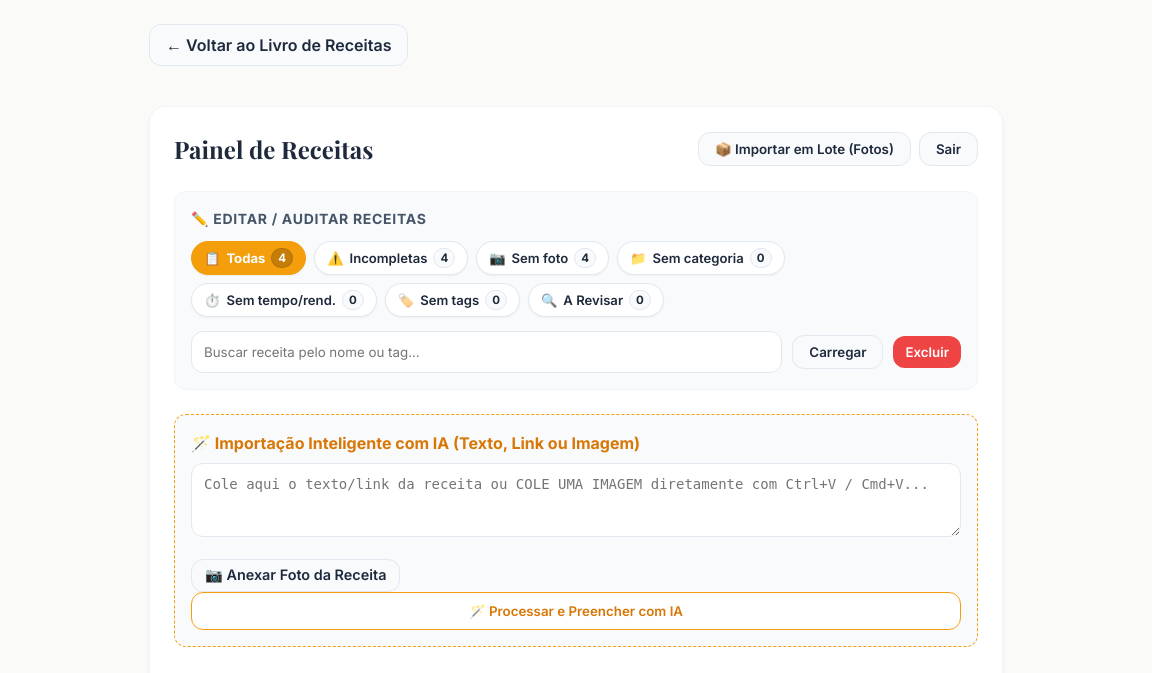
Test: Fluxo 6: Importação por IA → Fallback de Categoria em 3 Níveis (AIImportBox.integration.test.jsx) › Nível 2 (parcial): seleciona categoria correta quando a IA retorna categoria aproximada ("carne bovina" -> "carnes")
Expected: the heading "Painel de Receitas" is shown, left=174, top=131, right=373, bottom=167
Note: Insere texto no AIImportBox
Replace the text in the text box named "Texto, URL ou imagem da receita para importação inteligente" with "Costela no bafo com sal grosso...": x=576, y=500 left=191, top=463, right=961, bottom=537
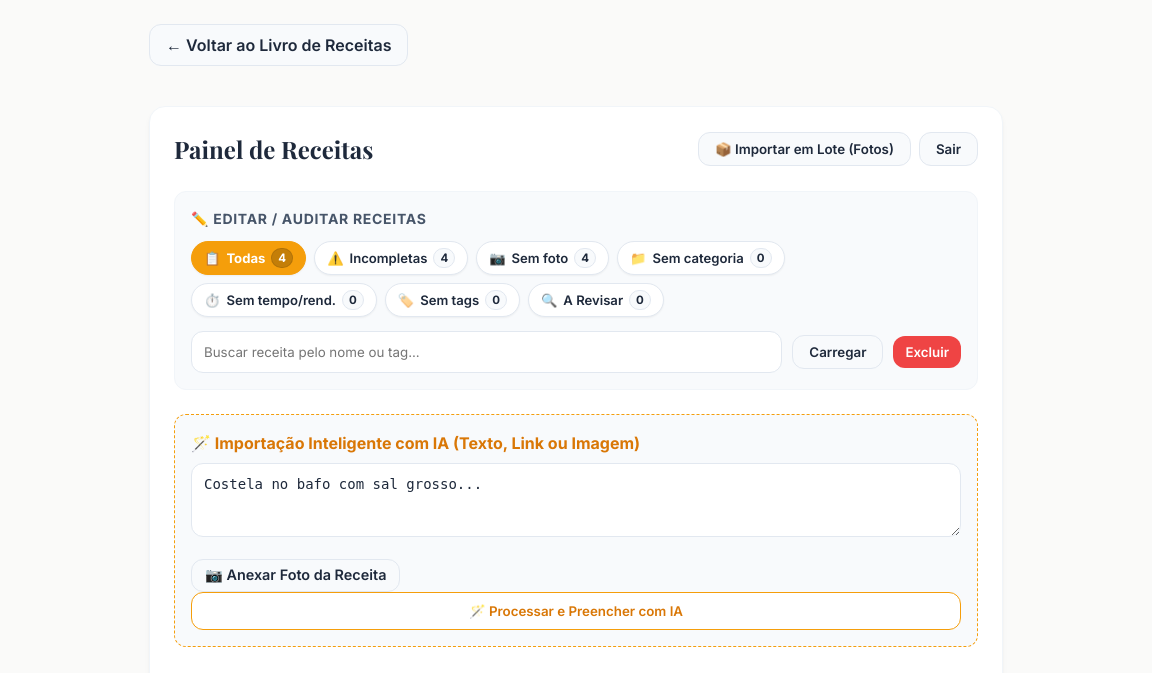
Note: Dispara importação inteligente
Click the button with aria-label "Importar e preencher receita com IA": x=576, y=611 left=191, top=592, right=961, bottom=630
(page scrolled)
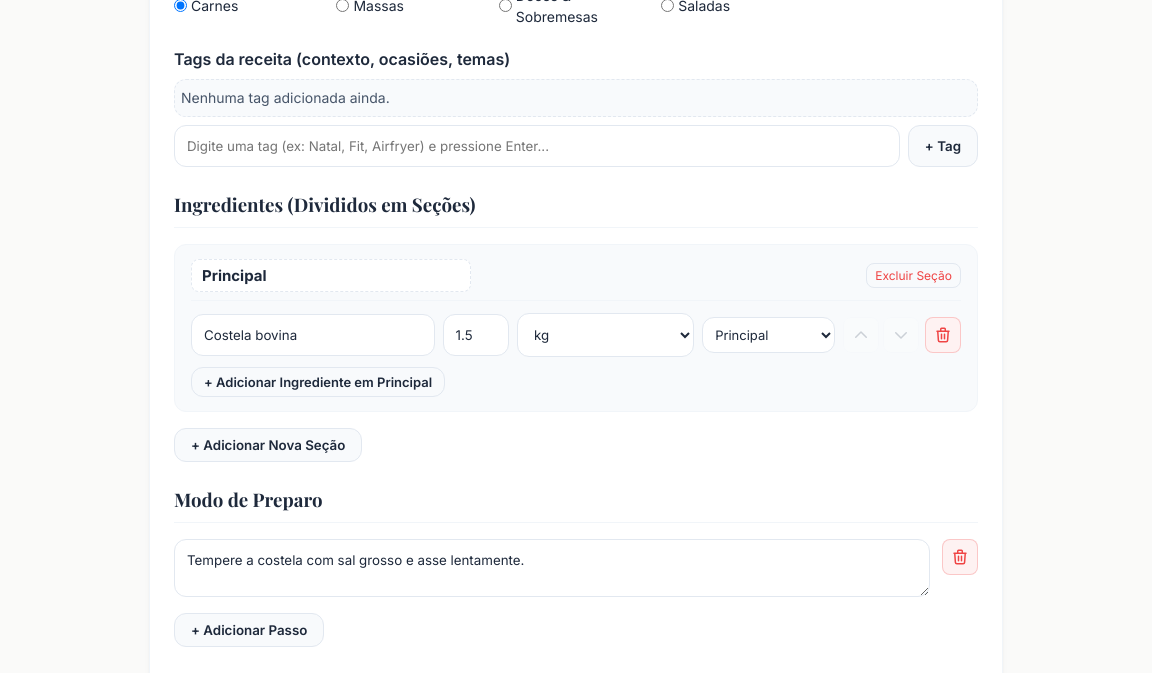
Now the radio button labelled "Carnes" is checked, box left=174, top=0, right=187, bottom=12
Now the field showing "Costela bovina" is shown, box left=191, top=314, right=435, bottom=356
Now the text box showing "Tempere a costela com sal grosso e asse lentamente." is shown, box left=174, top=539, right=930, bottom=597
